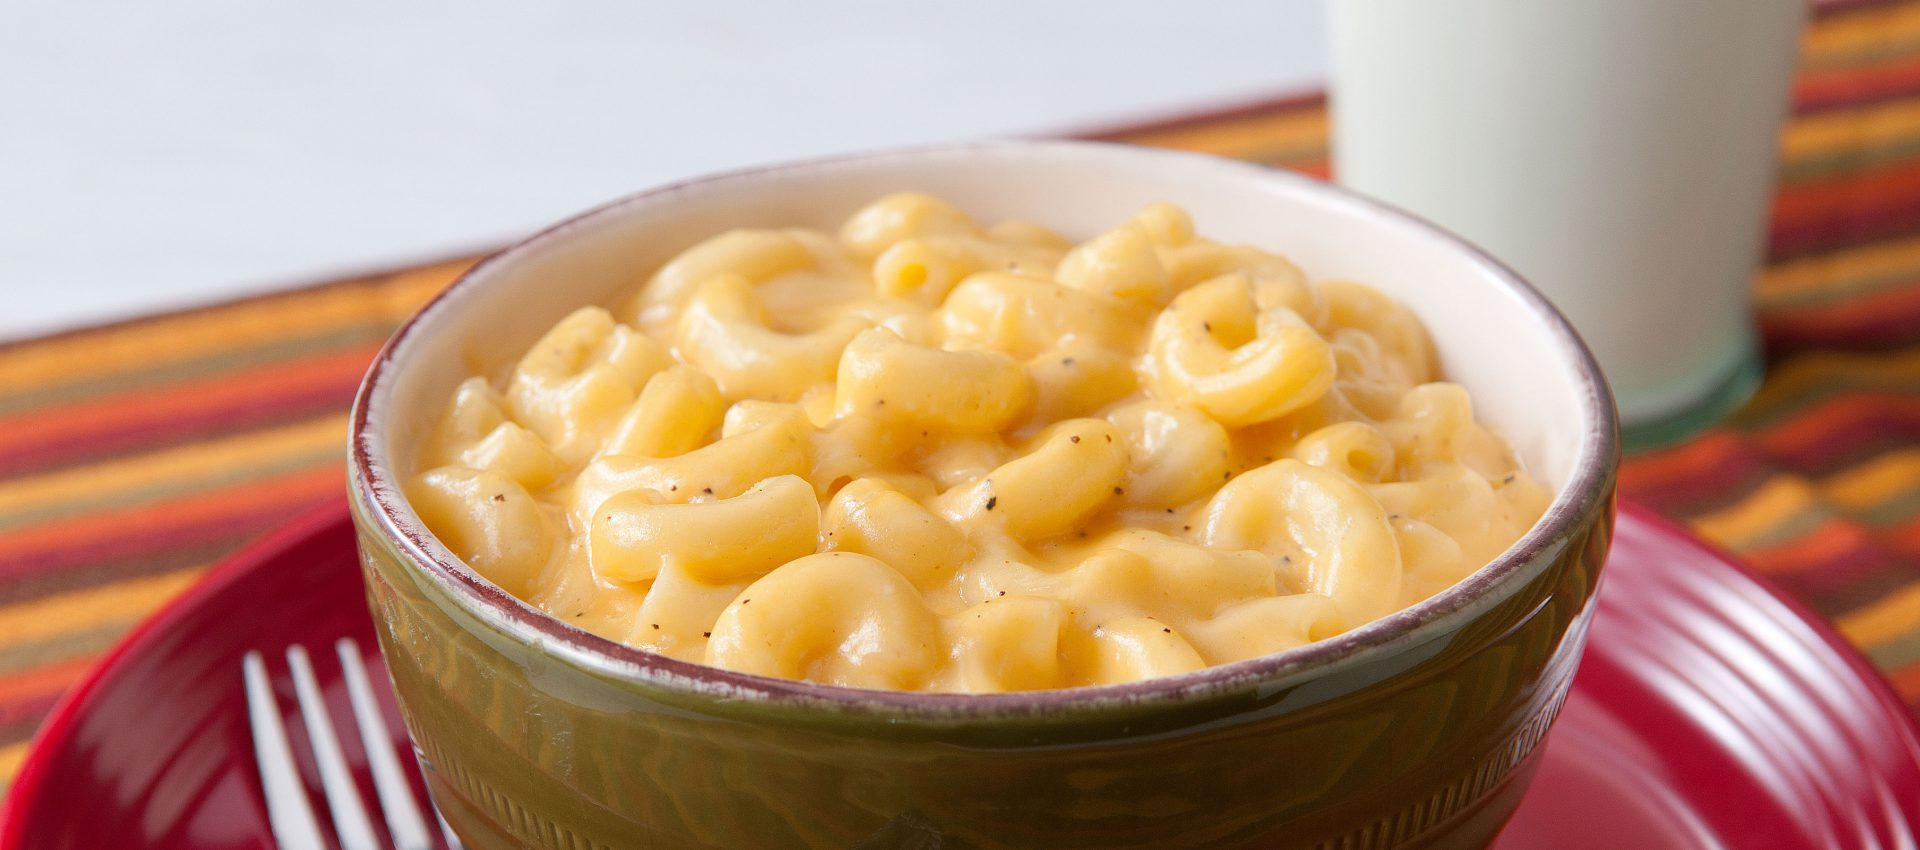macncheese: (380, 145, 1894, 841)
